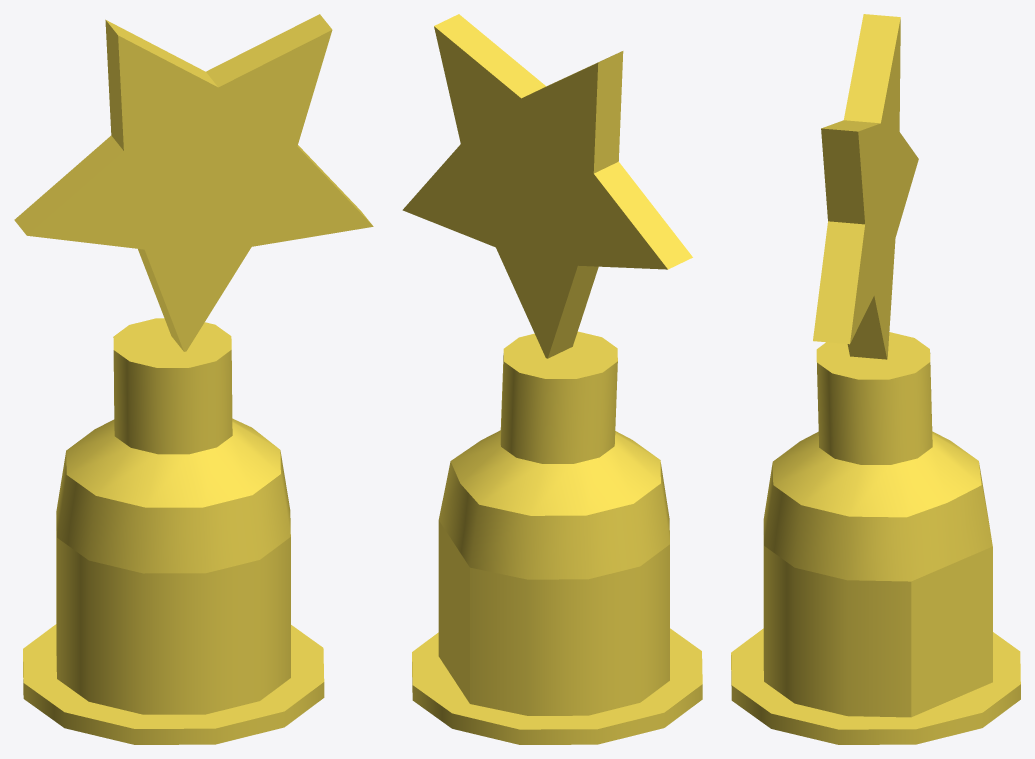
File: Award_2.fbx
The picture shows the model from 3 angles, left to right: view 1: azimuth 30°, elevation 25°; view 2: azimuth 150°, elevation 25°; view 3: azimuth 270°, elevation 25°; orthographic projection. The views are drawn at different scales.
Parts seen in each view (by area): view 1: Award_2; view 2: Award_2; view 3: Award_2.
Part boxes in pixels (x1=…): Award_2: x1=14, y1=14, x2=373, y2=744; Award_2: x1=402, y1=14, x2=702, y2=744; Award_2: x1=731, y1=14, x2=1020, y2=744.
Size of the model in its own units: 0.1522 by 0.3047 by 0.1249.
